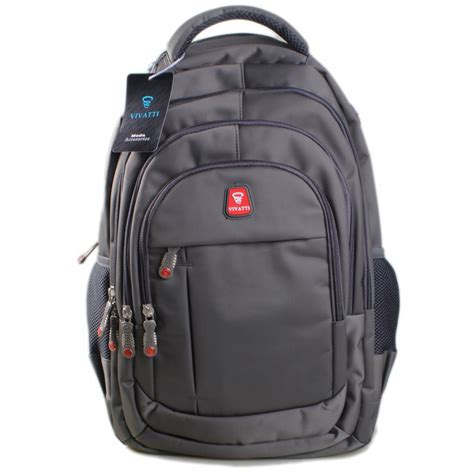nylon: (82, 3, 400, 462)
